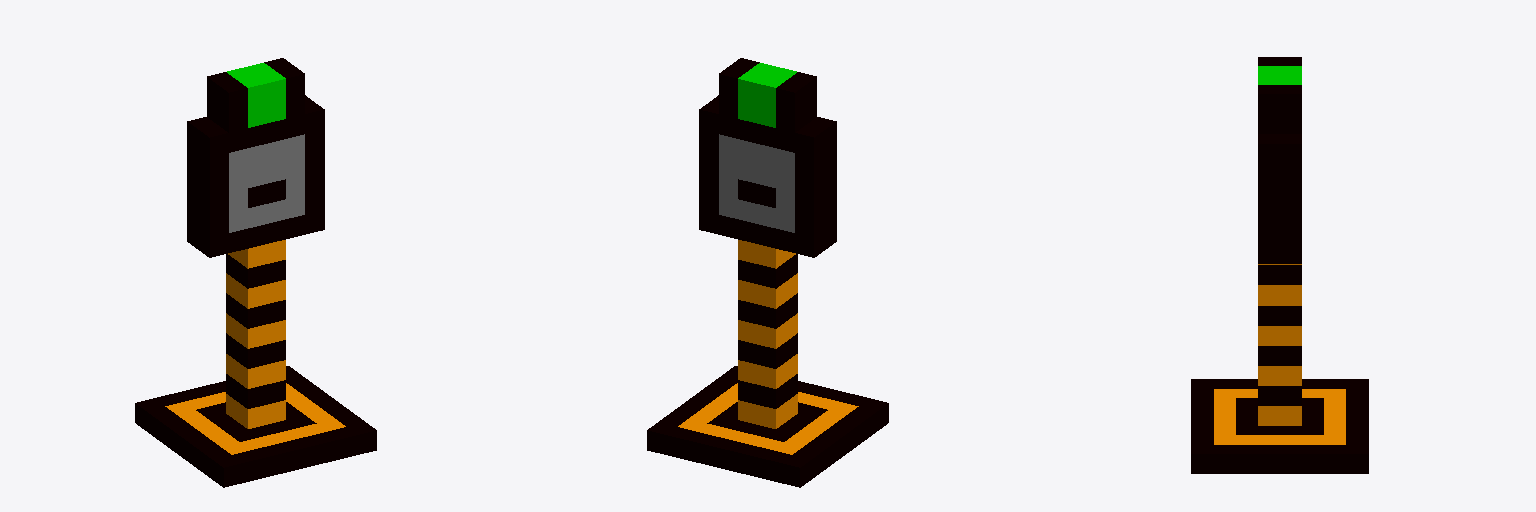
3 views of the same model, side by side, from view 1: azimuth 30°, elevation 25°; view 2: azimuth 150°, elevation 25°; view 3: azimuth 270°, elevation 25° (orthographic).
Visible parts, largest first — view 1: object 1; view 2: object 1; view 3: object 1.
Boxes of the visible parts, x1=… form: object 1: x1=135, y1=58, x2=376, y2=487; object 1: x1=647, y1=58, x2=888, y2=487; object 1: x1=1191, y1=57, x2=1368, y2=473.
Bounding box in the file's own units: 0.8 × 1.8 × 0.8.
Materials: 1 (1 with a texture image).